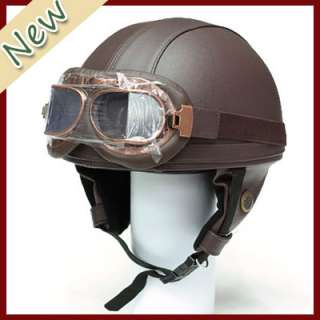with_helmet: (46, 20, 286, 201)
